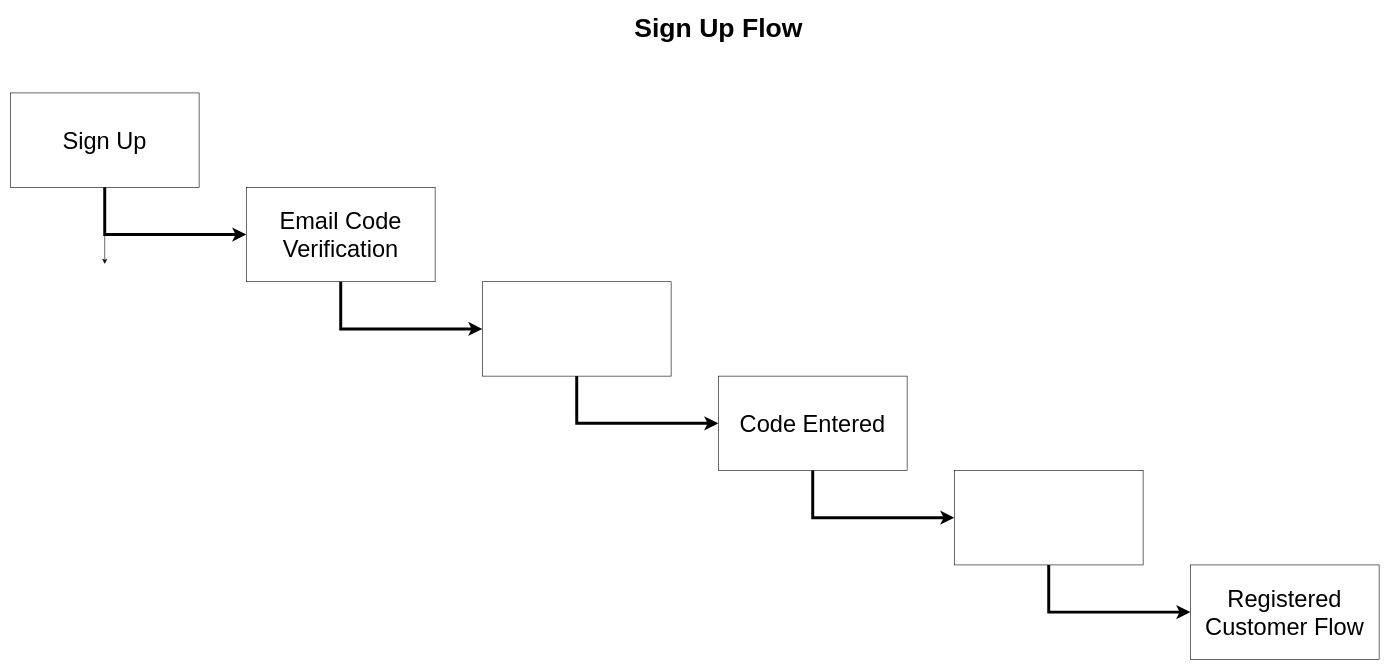
The diagram is 1389 pixels wide and 670 high, and some of its shapes have lost their labels. The centre of each missing label's shape, as x and y in pixels:
Account Dashboard: the point at 1048,517
Emailed Code: the point at 576,328
